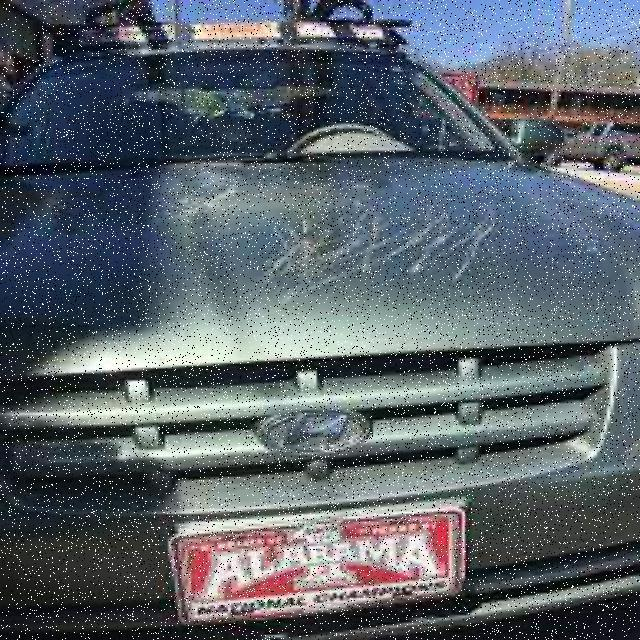bonnet-dent: (10, 170, 637, 368)
